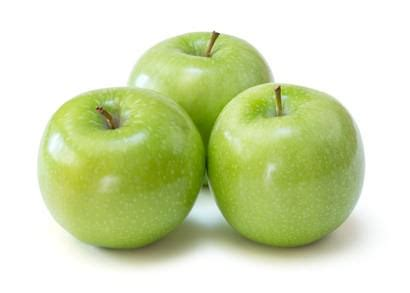apple: (36, 85, 206, 252), (207, 82, 365, 249), (123, 30, 276, 131)
